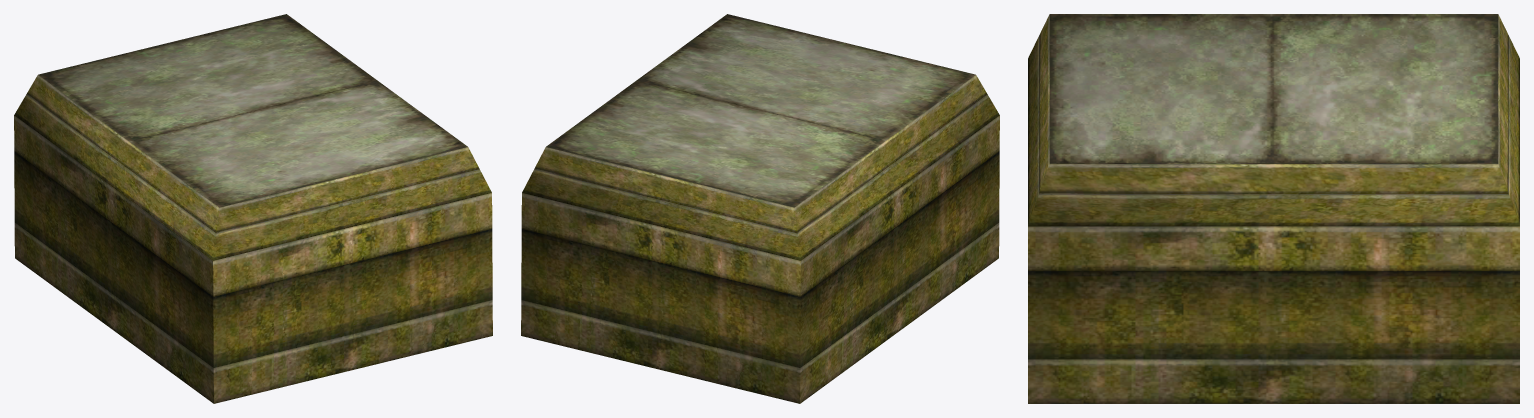
File: OVERHILL_A_01_OBJECT270.fbx
3 views of the same model, side by side, from view 1: azimuth 30°, elevation 25°; view 2: azimuth 150°, elevation 25°; view 3: azimuth 270°, elevation 25° (orthographic). The views are drawn at different scales.
Visible parts, largest first — view 1: OVERHILL_A_01_OBJECT270; view 2: OVERHILL_A_01_OBJECT270; view 3: OVERHILL_A_01_OBJECT270.
Boxes of the visible parts, x1,y1,x2,y2 form: OVERHILL_A_01_OBJECT270: (14,14,492,403); OVERHILL_A_01_OBJECT270: (521,14,999,403); OVERHILL_A_01_OBJECT270: (1028,14,1519,403).
Size of the model in its own units: 16847 by 10731 by 20758.
3 materials, 3 textured.
